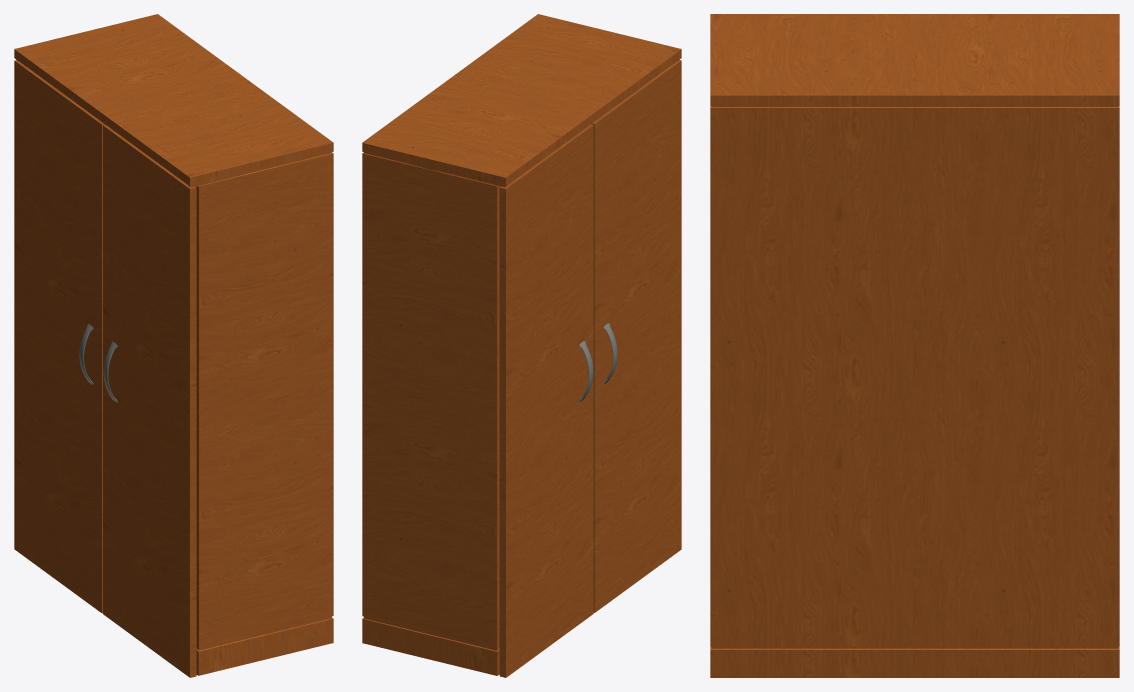
File: tall_cupboard 1.fbx
3 views of the same model, side by side, from view 1: azimuth 30°, elevation 25°; view 2: azimuth 150°, elevation 25°; view 3: azimuth 270°, elevation 25° (orthographic). The views are drawn at different scales.
Visible parts, largest first — view 1: closet; view 2: closet; view 3: closet.
Part boxes in pixels (bbox=[...]): closet: bbox=[14, 14, 333, 677]; closet: bbox=[362, 14, 681, 677]; closet: bbox=[710, 14, 1119, 677].
Size of the model in its own units: 70.55 by 220 by 140.
Materials: 1 (1 with a texture image).
